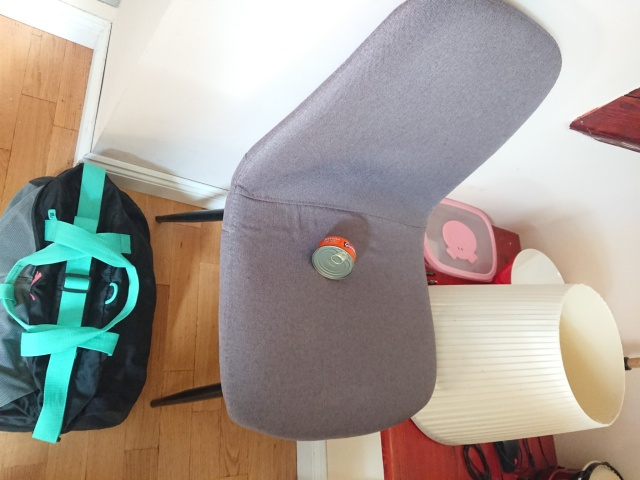Gavrilovic Pork Liver Pate 100g: (308, 233, 357, 281)
